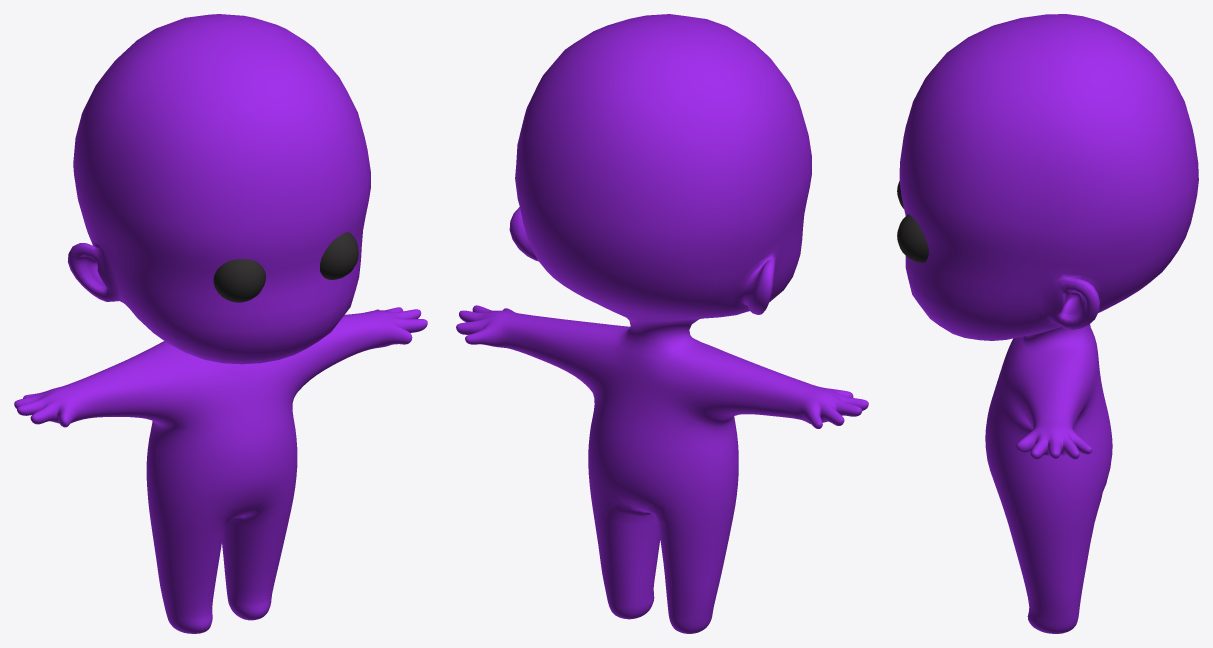
File: PlayerPH.fbx
3 views of the same model, side by side, from view 1: azimuth 30°, elevation 25°; view 2: azimuth 150°, elevation 25°; view 3: azimuth 270°, elevation 25° (orthographic).
Parts seen in each view (by area): view 1: PlayerPH; view 2: PlayerPH; view 3: PlayerPH.
Part boxes in pixels (x1,y1,x2,y2): PlayerPH: (14,14,427,633); PlayerPH: (456,14,868,633); PlayerPH: (897,14,1198,633).
Bounding box in the file's own units: 304 × 427 × 199.
